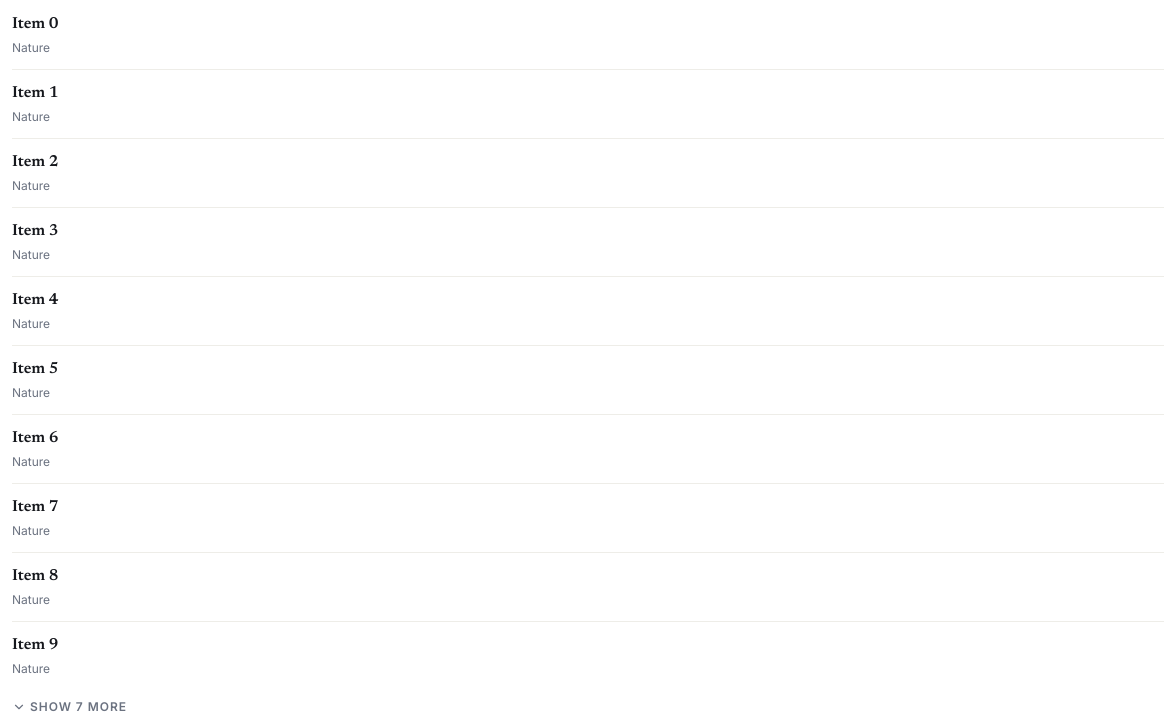
it: WhatsNewDialog section fold › opens to the full list and closes again
The width and height of the screenshot is (1164, 720).
(page scrolled)
Click the button "Show 7 more".
click(69, 706)  # box [12,698,127,716]
(page scrolled)
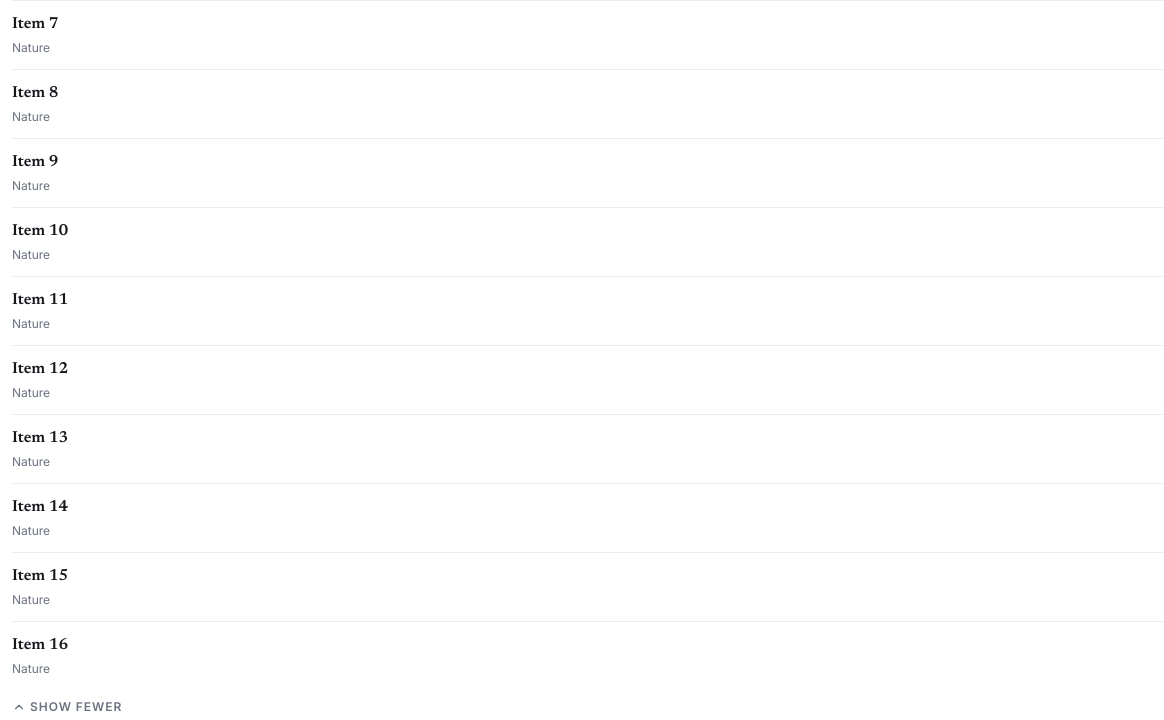
Now the number of list items is 17
Now the button "Show fewer" is expanded
Click the button "Show fewer".
click(67, 706)  # box [12,698,122,716]
(page scrolled)
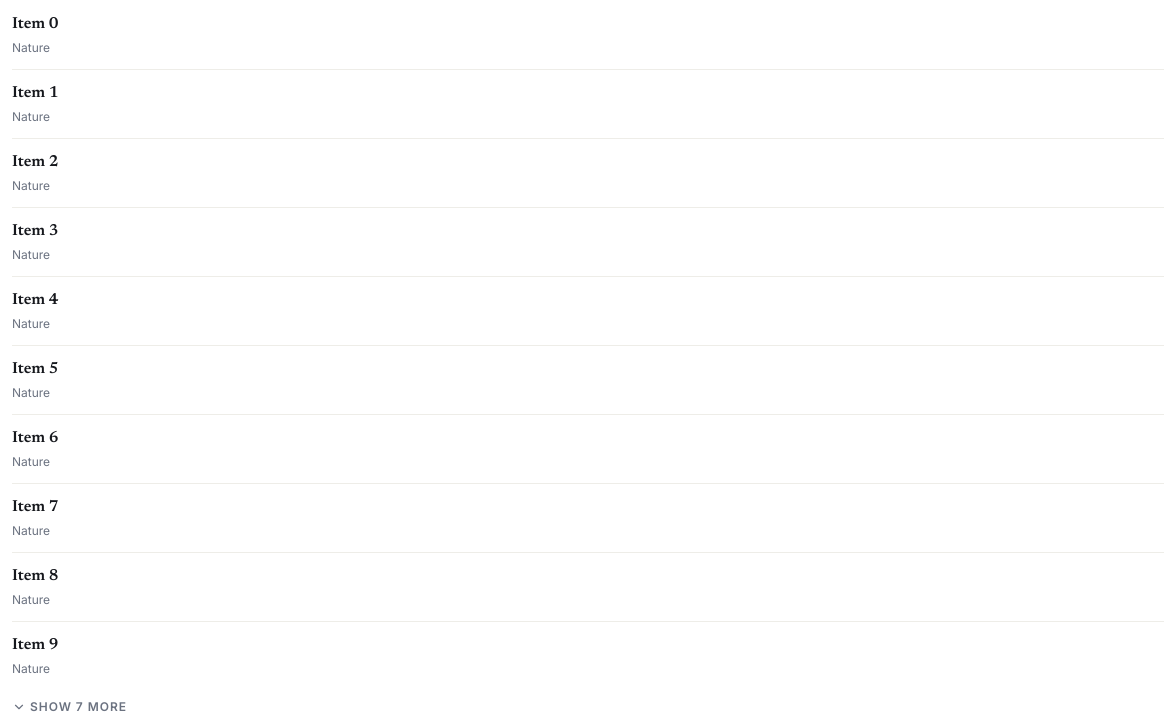
Now the number of list items is 10
